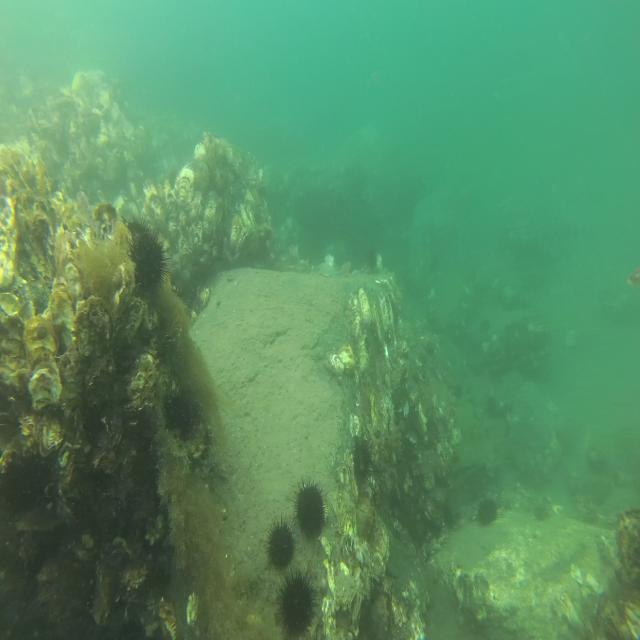echinus: (126, 220, 168, 300), (278, 568, 317, 639), (161, 383, 200, 446), (295, 476, 329, 544), (265, 517, 296, 572), (350, 439, 375, 490), (472, 492, 501, 530)
